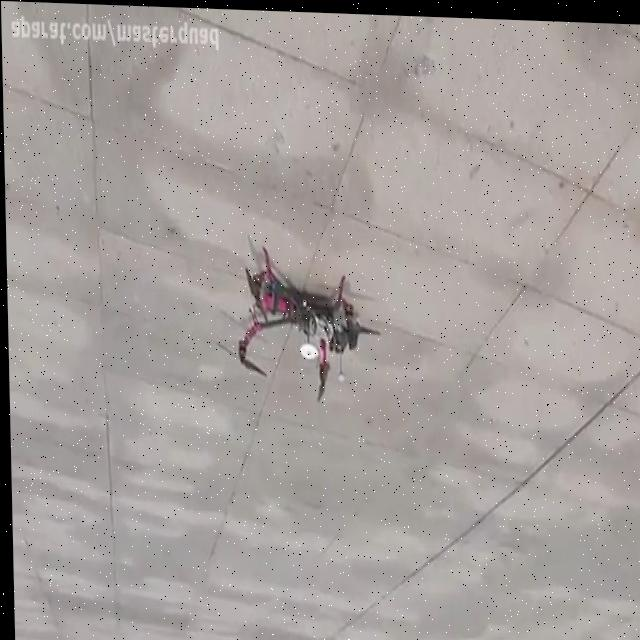drone: (209, 243, 382, 406)
